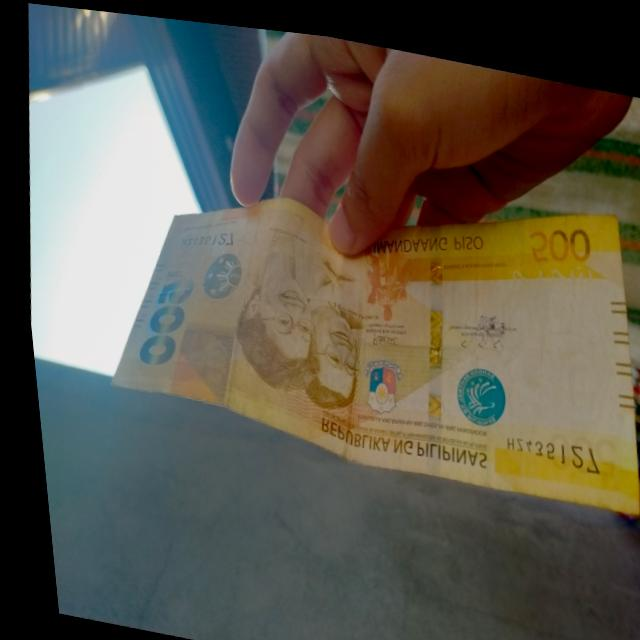concealed_value: (150, 305, 232, 405)
optically_variable_device: (178, 231, 248, 313)
security_thread: (393, 189, 459, 474)
see_through_mark: (494, 239, 599, 297)
watermark: (478, 249, 617, 437)
